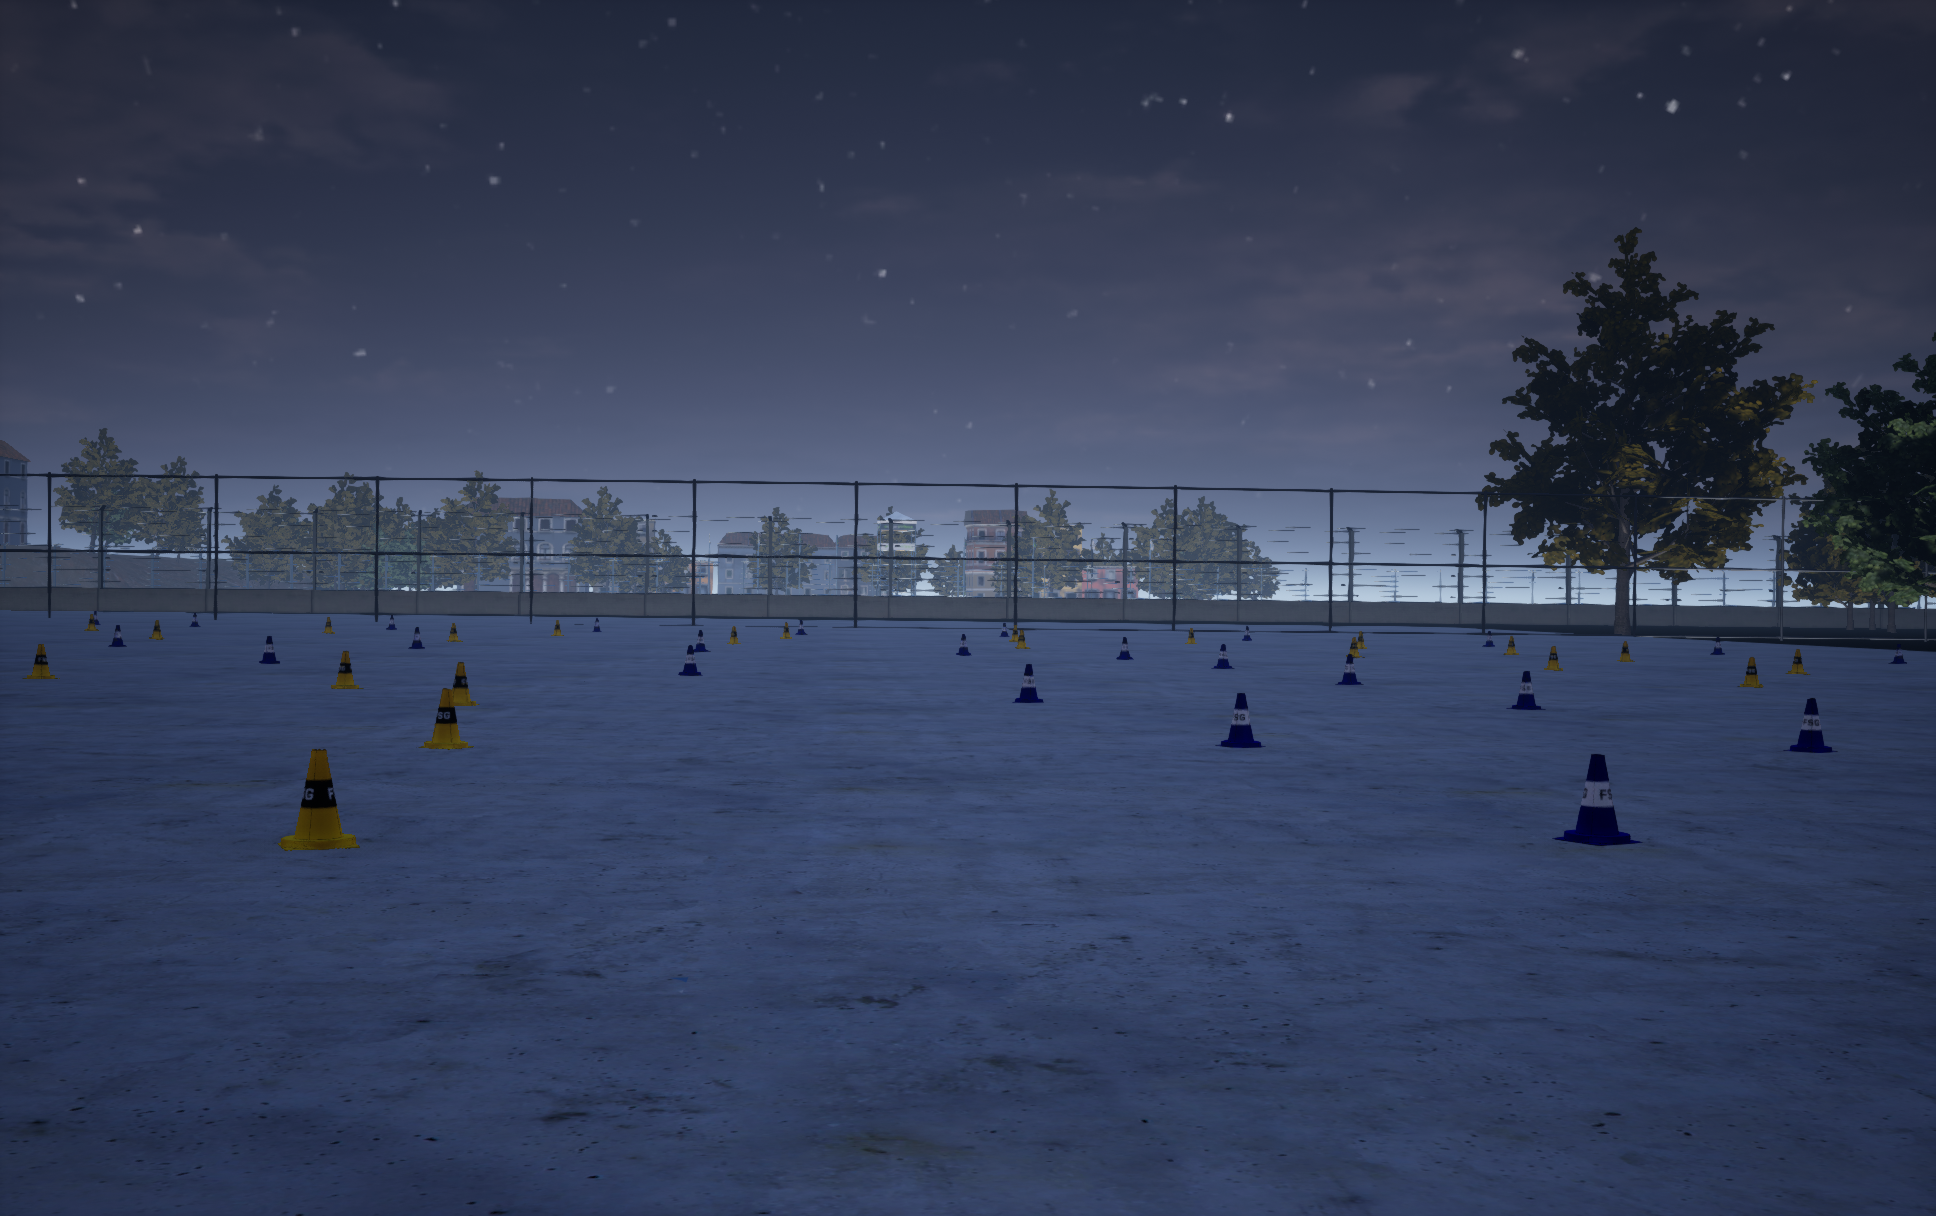blue: (277, 749, 359, 850), (416, 688, 473, 749), (22, 644, 59, 678), (331, 651, 363, 688), (452, 663, 479, 705), (1737, 657, 1764, 686), (1785, 649, 1810, 674), (1544, 646, 1562, 670), (1346, 637, 1364, 657), (1617, 642, 1633, 661), (445, 623, 462, 642), (148, 621, 164, 639), (1503, 636, 1519, 654), (1016, 630, 1030, 649), (727, 626, 740, 644)
yellow: (1552, 754, 1642, 845), (1783, 698, 1837, 752), (1215, 693, 1265, 747), (1506, 671, 1545, 709), (1011, 664, 1044, 702), (1335, 654, 1363, 684), (678, 644, 702, 675), (1210, 644, 1234, 668), (259, 636, 279, 663), (108, 625, 126, 646), (1116, 637, 1133, 658), (408, 628, 424, 649), (693, 630, 710, 651), (1888, 644, 1907, 663), (955, 635, 971, 656)
